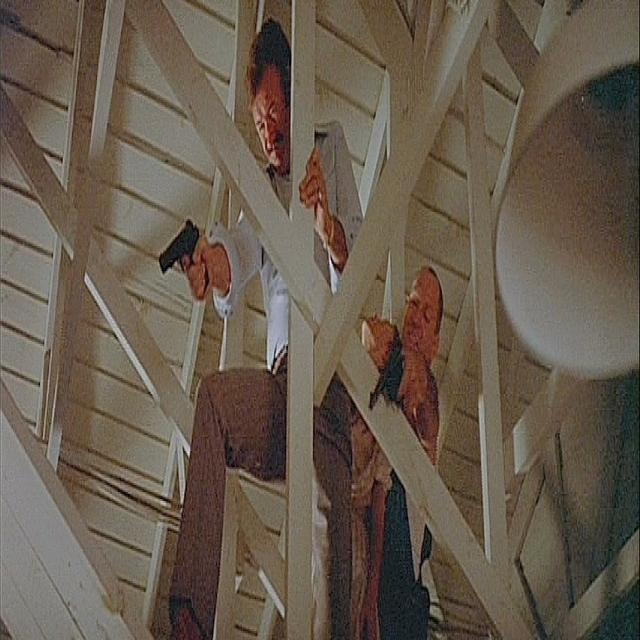gun-knife-thesis - v11 Yolov5 augmented: (361, 316, 430, 432), (153, 221, 205, 284)
